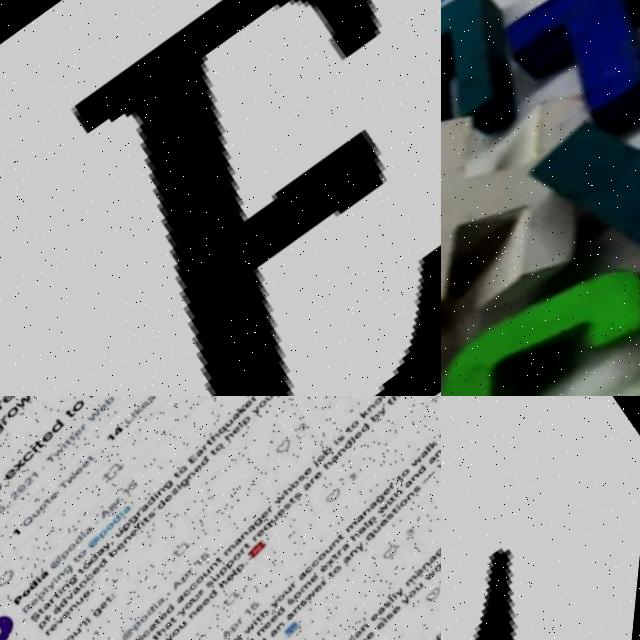0: (22, 481, 35, 493)
1: (18, 525, 30, 537), (35, 469, 46, 480), (111, 430, 122, 441), (127, 485, 138, 495), (252, 604, 261, 614), (202, 556, 211, 565), (102, 628, 110, 636), (0, 509, 6, 519)
2: (303, 417, 315, 429), (15, 489, 27, 500), (30, 474, 42, 485), (353, 467, 365, 478)
3: (412, 522, 424, 533)
4: (116, 421, 132, 435)
5: (1, 500, 16, 515), (206, 547, 220, 561), (256, 595, 270, 609), (132, 477, 146, 490)
C: (441, 212, 640, 396)
E: (75, 0, 396, 396)
H: (441, 7, 640, 396)
K: (512, 0, 640, 318)
M: (441, 0, 553, 220)
T: (495, 0, 640, 151)
Z: (441, 396, 640, 640)
